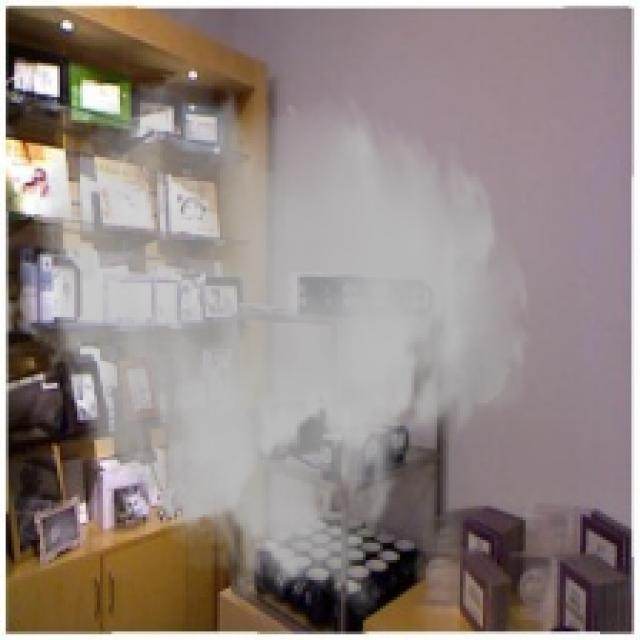Smoke: (2, 69, 534, 620)
